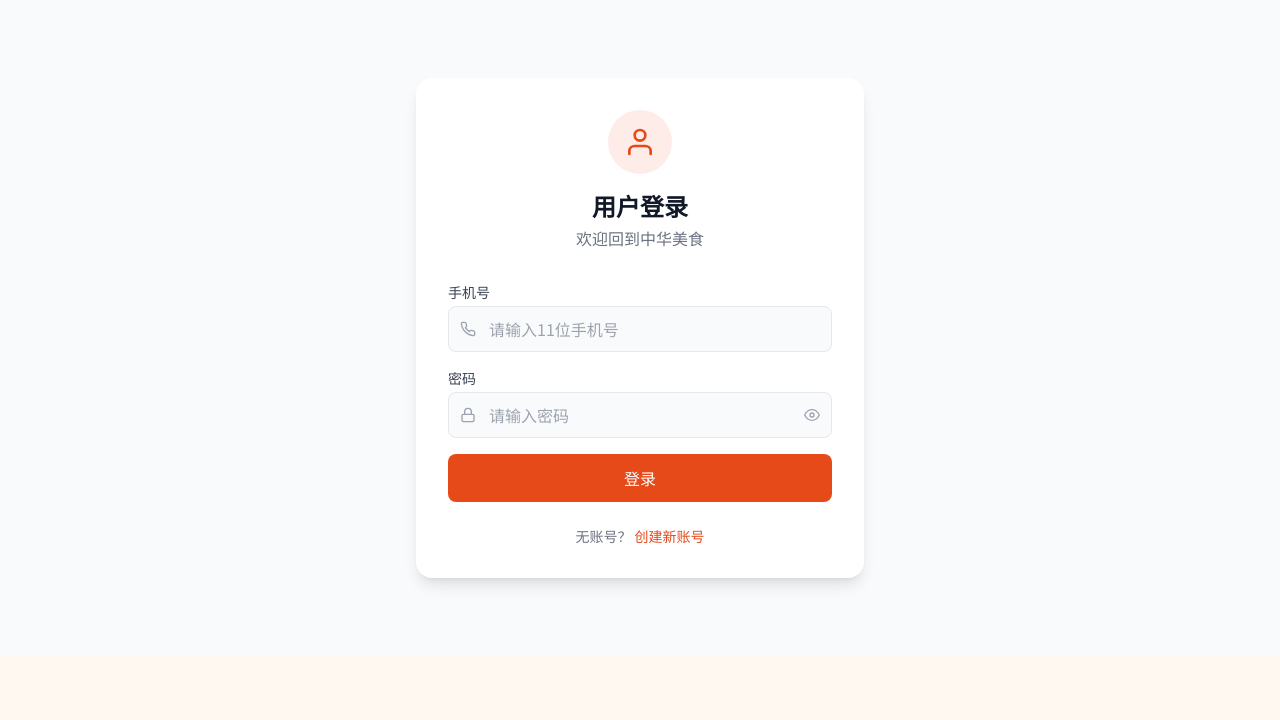
AuthPage › Login Mode › should switch to register mode
Click the button "创建新账号" at {"x": 670, "y": 536}, box 635,526 -> 705,546
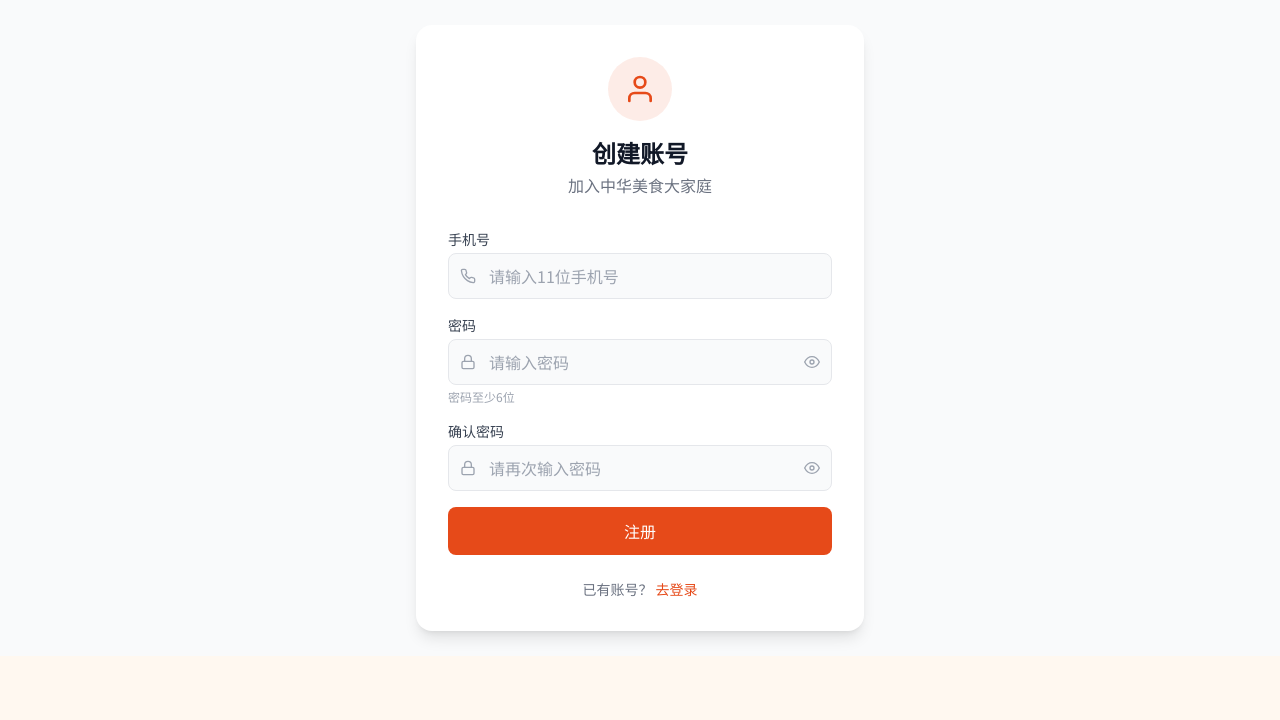
Result: the heading "创建账号" is shown at 592,135 -> 688,170
Result: the button "注册" is shown at 448,507 -> 832,555
